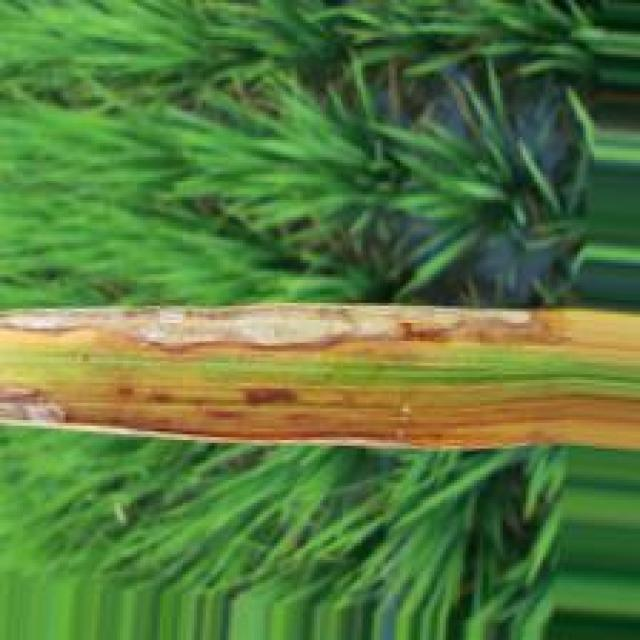Bacterial_Leaf_Blight: (0, 301, 640, 452)
